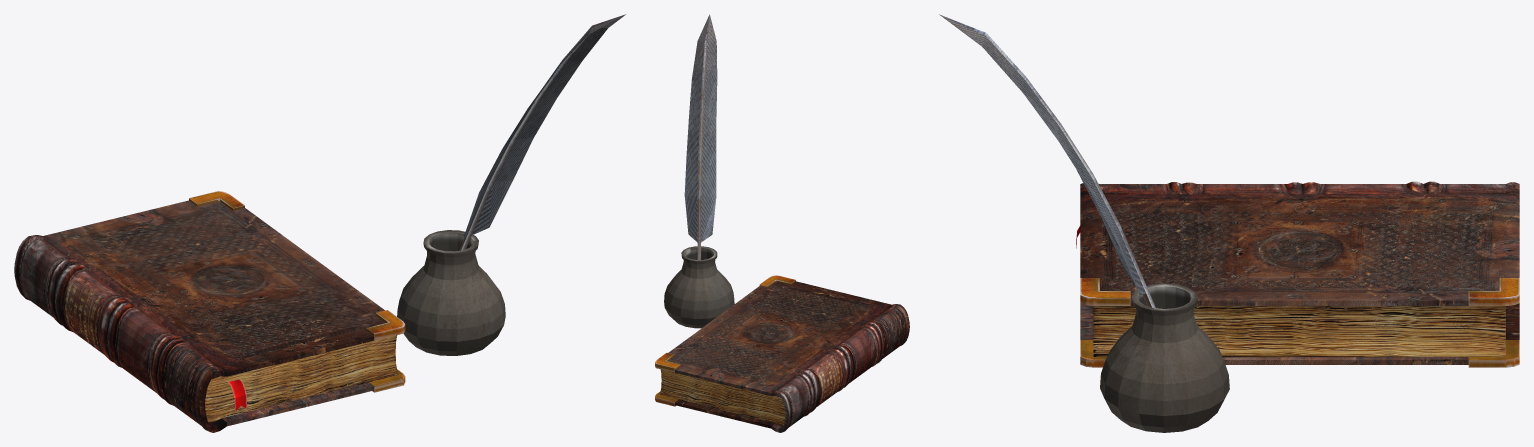
File: book (2).glb
3 renders of one model, left to right at view 1: azimuth 30°, elevation 25°; view 2: azimuth 150°, elevation 25°; view 3: azimuth 270°, elevation 25°, orthographic. The views are drawn at different scales.
Parts seen in each view (by area): view 1: Object_3, Object_5, Object_4; view 2: Object_3, Object_4, Object_5; view 3: Object_3, Object_5, Object_4.
Part boxes in pixels (x1,y1,x2,y2): Object_3: [14, 191, 405, 432]; Object_5: [397, 230, 505, 355]; Object_4: [459, 14, 625, 250]; Object_3: [655, 275, 909, 432]; Object_4: [684, 14, 717, 259]; Object_5: [664, 246, 734, 328]; Object_3: [1076, 181, 1519, 367]; Object_5: [1100, 283, 1229, 432]; Object_4: [939, 14, 1155, 308].
Bounding box in the file's own units: 3.52 × 3.46 × 4.06.
Materials: 3 (3 with a texture image).
